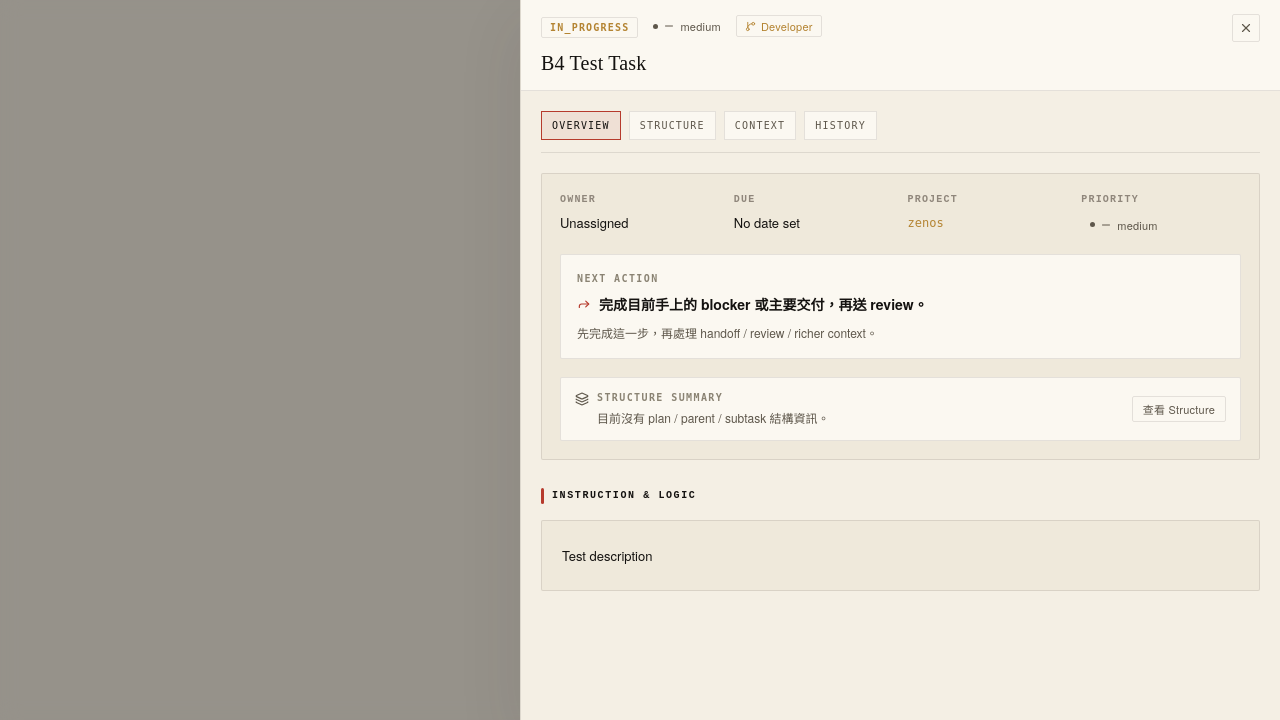
TaskDetailDrawer — B4 Zen migration › shows context content without leaking hierarchy panels
The width and height of the screenshot is (1280, 720).
What coordinates should you click on to do the following:
click the button "Context"
I would click on:
 (760, 126)
Its box is x1=724 y1=111 x2=796 y2=140.
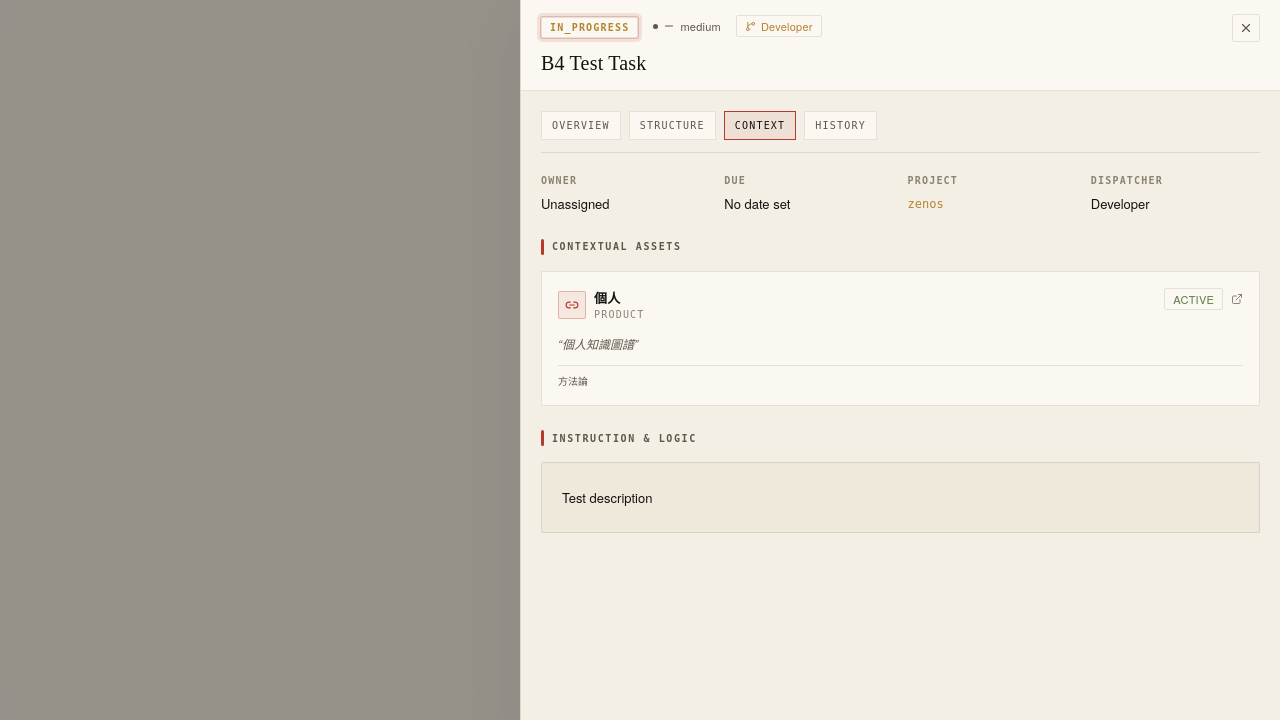
Now the text "Contextual Assets" is shown, box x1=552 y1=239 x2=682 y2=254
